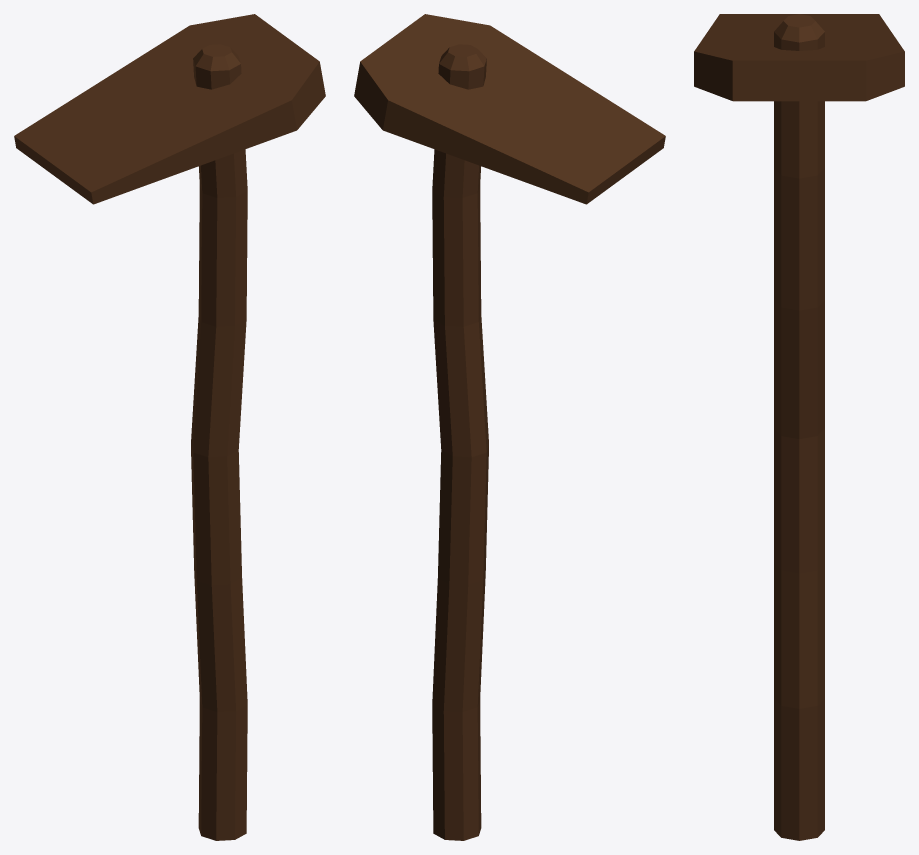
Rendered from wood_hoe.glb.
The picture shows the model from 3 angles, left to right: view 1: azimuth 30°, elevation 25°; view 2: azimuth 150°, elevation 25°; view 3: azimuth 270°, elevation 25°; orthographic projection. The views are drawn at different scales.
Parts seen in each view (by area): view 1: Cylinder; view 2: Cylinder; view 3: Cylinder.
Boxes of the visible parts, x1,y1,x2,y2 form: Cylinder: [14, 14, 325, 840]; Cylinder: [354, 14, 665, 840]; Cylinder: [694, 14, 904, 840].
Size of the model in its own units: 1.74 by 5.4 by 1.28.
